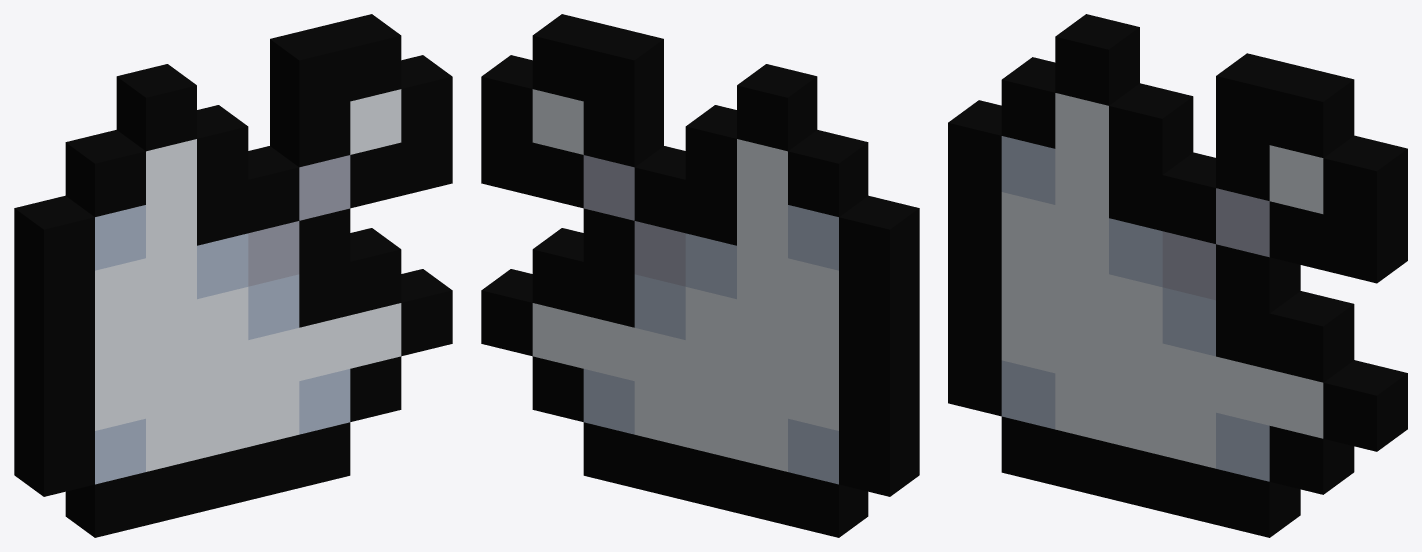
Rendered from Murkborne Ray.glb.
3 views of the same model, side by side, from view 1: azimuth 30°, elevation 25°; view 2: azimuth 150°, elevation 25°; view 3: azimuth 330°, elevation 25° (orthographic). The views are drawn at different scales.
Visible parts, largest first — view 1: generated(Clone); view 2: generated(Clone); view 3: generated(Clone).
Boxes of the visible parts, <box> form: generated(Clone): <box>14,14,452,537</box>; generated(Clone): <box>481,14,919,537</box>; generated(Clone): <box>948,14,1407,537</box>.
Bounding box in the file's own units: 8 × 8 × 1.
Materials: 1 (1 with a texture image).
